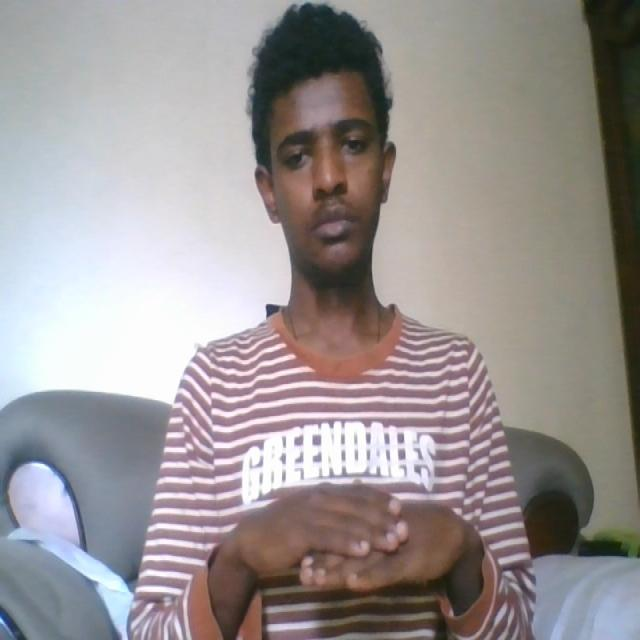lay: (225, 478, 476, 606)
